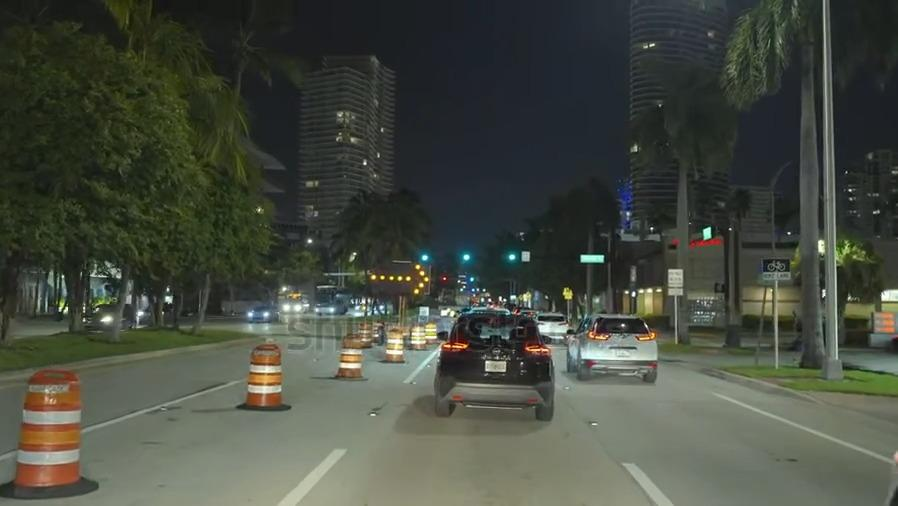arrow traffic sign: (363, 263, 436, 300)
bus: (311, 283, 353, 322), (281, 291, 311, 316)
car: (432, 311, 557, 420), (566, 315, 660, 383), (67, 295, 135, 335), (533, 307, 570, 346), (137, 302, 179, 324), (247, 305, 280, 324)
cone: (13, 366, 83, 488), (238, 342, 287, 403), (337, 331, 363, 378), (377, 327, 407, 365), (409, 322, 427, 350), (357, 317, 372, 347), (425, 320, 437, 347)
traffic light: (409, 243, 436, 272), (452, 244, 479, 273), (493, 245, 523, 270)
